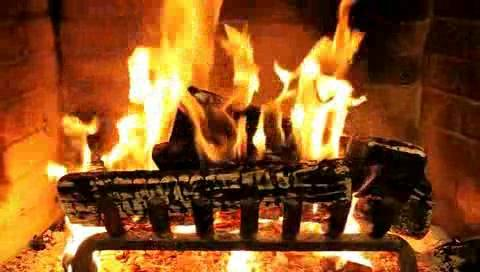fire: (111, 0, 369, 188)
